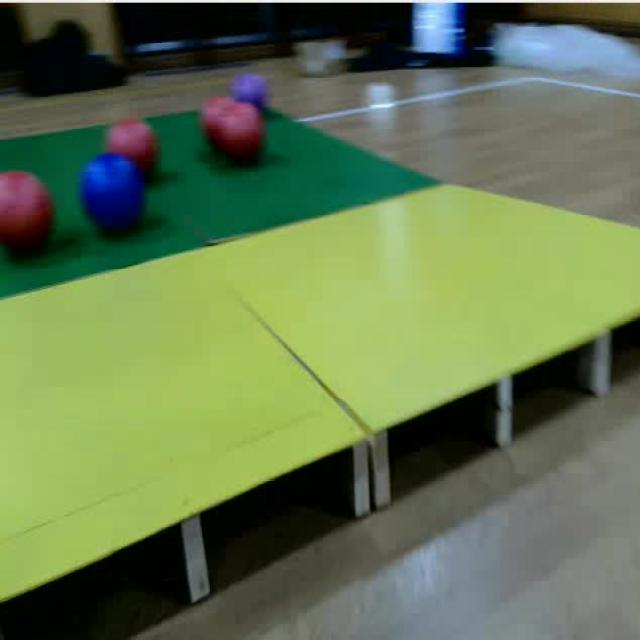blue_ball: (79, 157, 141, 236)
purple_ball: (232, 70, 271, 103)
red_ball: (0, 168, 56, 262), (218, 105, 270, 166), (103, 114, 169, 154), (202, 96, 232, 149)
